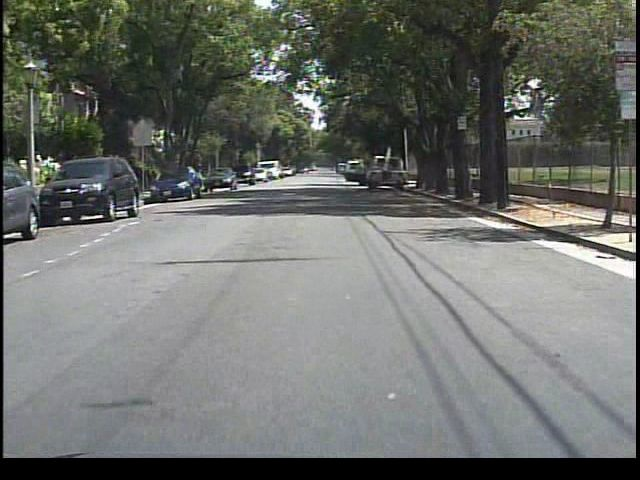person: (354, 162, 369, 187)
